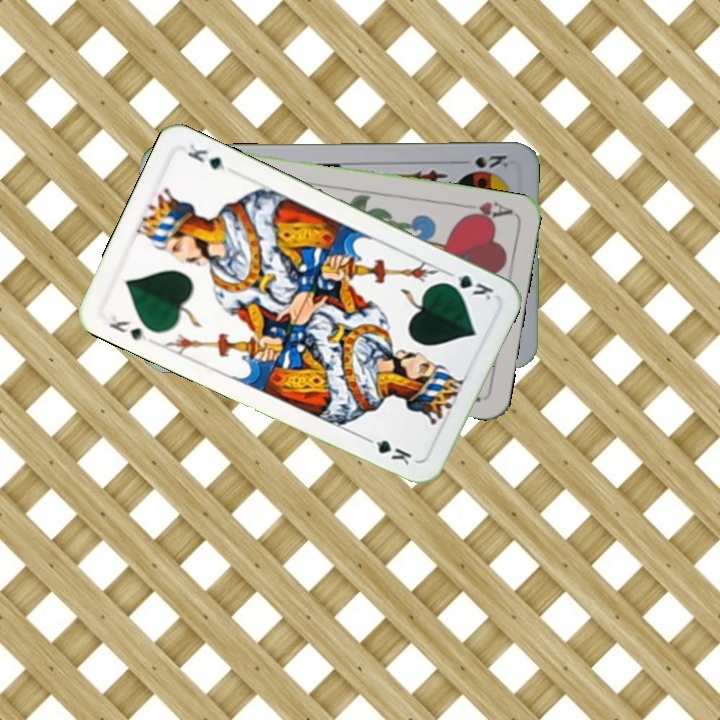GK: (439, 267, 497, 304), (105, 311, 149, 343)
HA: (456, 197, 515, 224)
SK: (454, 151, 511, 171)
